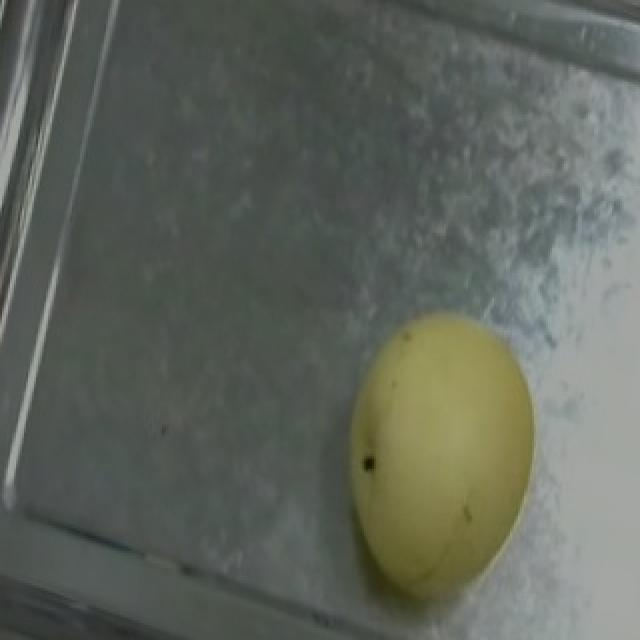Fruit: (294, 283, 574, 637)
